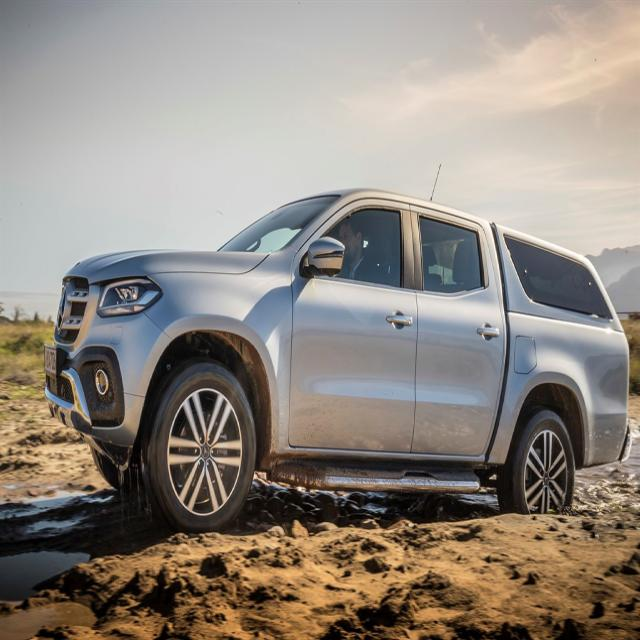Pickup Trucks: (43, 178, 632, 536)
